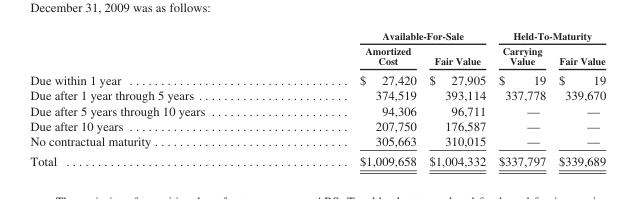table: (29, 29, 605, 167)
table column: (29, 29, 281, 167), (281, 29, 422, 167), (422, 29, 491, 167), (491, 29, 551, 167), (551, 29, 605, 167)
table column header: (29, 29, 605, 69)
table row: (29, 42, 605, 69), (29, 69, 605, 87), (29, 133, 605, 150), (29, 150, 605, 167), (29, 117, 605, 133), (29, 87, 605, 102), (29, 102, 605, 117), (29, 29, 605, 42)
table spanning cell: (281, 29, 491, 42), (491, 29, 605, 42)
